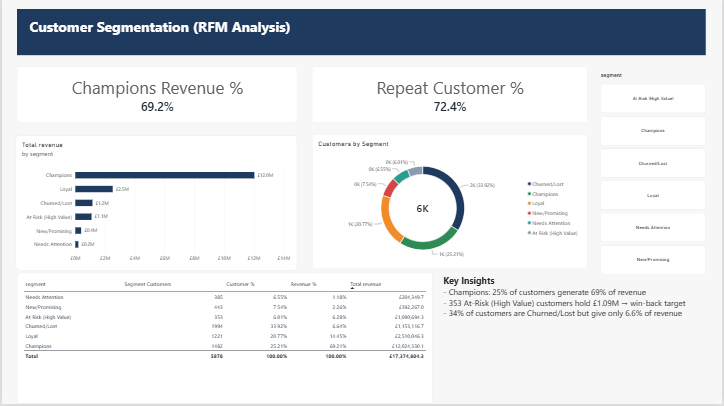

Layout of this report page (visuals, bound fields, positions):
{"tool":"powerbi","page":{"name":"Customer Segments","canvas":[1920,1080],"ordinal":1},"visuals":[{"type":"shape","box":[40,26.7,1836.7,123.3],"z":0},{"type":"textbox","box":[73.3,46.7,713.7,83.3],"z":1000},{"type":"cardVisual","fields":{"Data":["public fact_sales.Champions Revenue %"]},"box":[40,180,747.5,150],"z":2000},{"type":"cardVisual","fields":{"Data":["public fact_sales.Repeat Customer %"]},"box":[827.5,180,735,150],"z":3000},{"type":"advancedSlicerVisual","fields":{"Values":["public dim_customer.segment"]},"box":[1597.5,192.5,279.5,541.2],"z":4000},{"type":"clusteredBarChart","fields":{"Category":["public dim_customer.segment"],"Y":["public fact_sales.Total revenue"]},"box":[37.5,362.5,750,360],"z":5000},{"type":"donutChart","title":"Customers by Segment","fields":{"Category":["public dim_customer.segment"],"Y":["public fact_sales.Segment Customers"]},"box":[827.5,360,735,360],"z":6000},{"type":"tableEx","fields":{"Values":["public dim_customer.segment","public fact_sales.Segment Customers","public fact_sales.Customer %","public fact_sales.Revenue %","public fact_sales.Total revenue"]},"box":[38.7,731.5,1109.2,347.9],"z":7000},{"type":"textbox","box":[1175,732.5,677.5,347.5],"z":8000}]}

Visuals, with their boxes in screenshot pixels (x1, y1, x2, y2), scaled from the page's 1920x1080 canvas onto the 724x406 screenshot:
shape: [x1=15, y1=10, x2=708, y2=56]
textbox: [x1=28, y1=18, x2=297, y2=49]
cardVisual - public fact_sales.Champions Revenue %: [x1=15, y1=68, x2=297, y2=124]
cardVisual - public fact_sales.Repeat Customer %: [x1=312, y1=68, x2=589, y2=124]
advancedSlicerVisual - public dim_customer.segment: [x1=602, y1=72, x2=708, y2=276]
clusteredBarChart - public dim_customer.segment x public fact_sales.Total revenue: [x1=14, y1=136, x2=297, y2=272]
"Customers by Segment" donutChart: [x1=312, y1=135, x2=589, y2=271]
tableEx - public dim_customer.segment x public fact_sales.Segment Customers: [x1=15, y1=275, x2=433, y2=405]
textbox: [x1=443, y1=275, x2=699, y2=405]
